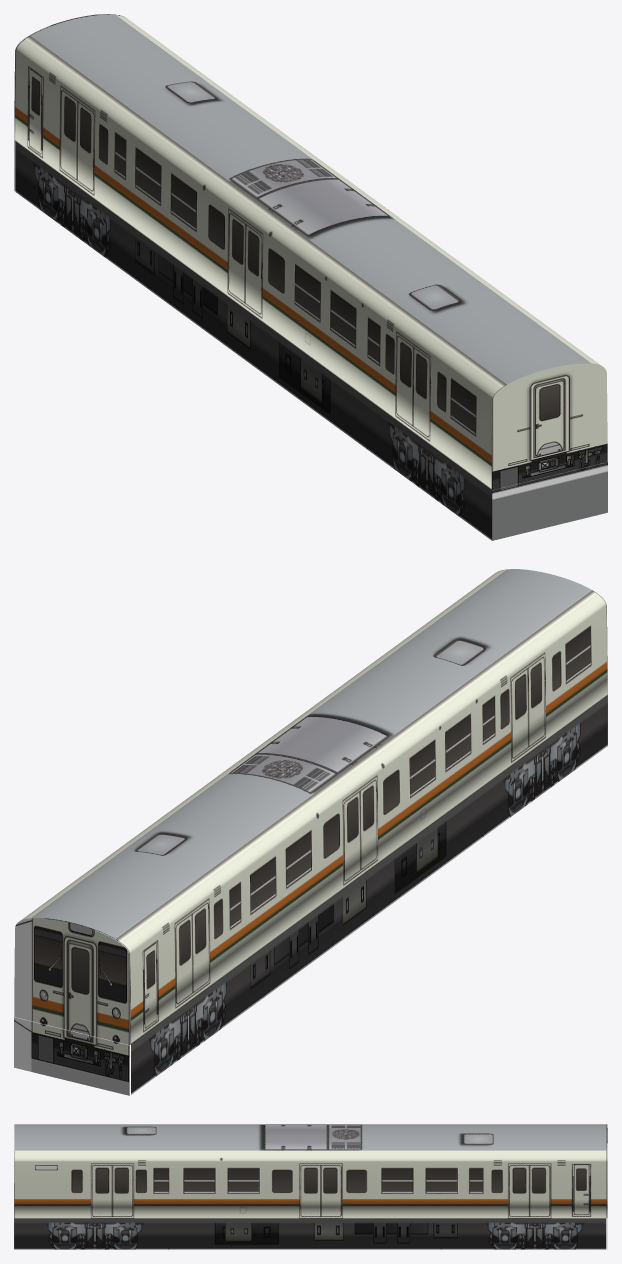
File: car2.glb
3 views of the same model, one above another, from view 1: azimuth 30°, elevation 25°; view 2: azimuth 150°, elevation 25°; view 3: azimuth 270°, elevation 25° (orthographic). The views are drawn at different scales.
Parts seen in each view (by area): view 1: jr-tokai-119-car2; view 2: jr-tokai-119-car2; view 3: jr-tokai-119-car2.
Part boxes in pixels (x1=…): jr-tokai-119-car2: x1=14, y1=14, x2=607, y2=540; jr-tokai-119-car2: x1=14, y1=569, x2=607, y2=1095; jr-tokai-119-car2: x1=14, y1=1124, x2=607, y2=1249.
Bounding box in the file's own units: 2.8 × 3.65 × 20.03.
9 materials, 8 textured.
